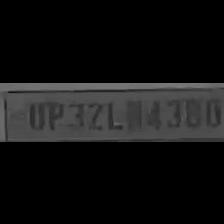0: (200, 95, 222, 127), (182, 95, 202, 127)
2: (86, 97, 104, 130)
3: (66, 97, 86, 131)
4: (142, 94, 162, 130)
L: (102, 97, 124, 131)
P: (43, 97, 65, 130)
U: (24, 98, 46, 130)
